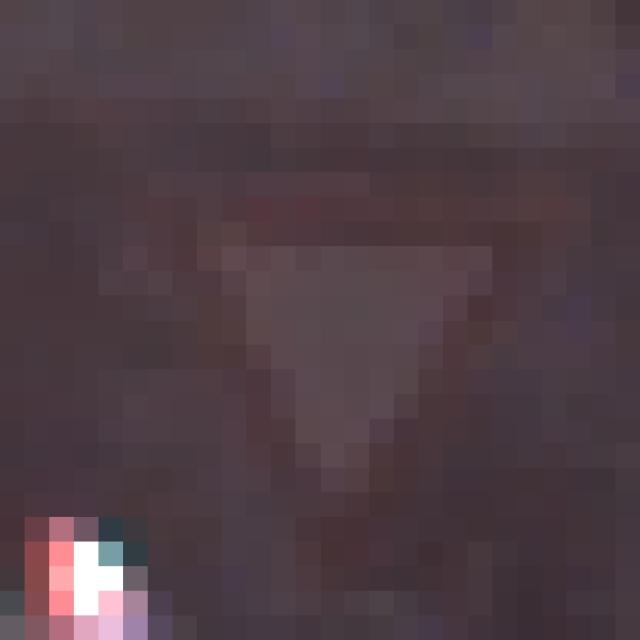Give Way: (148, 148, 566, 590)
